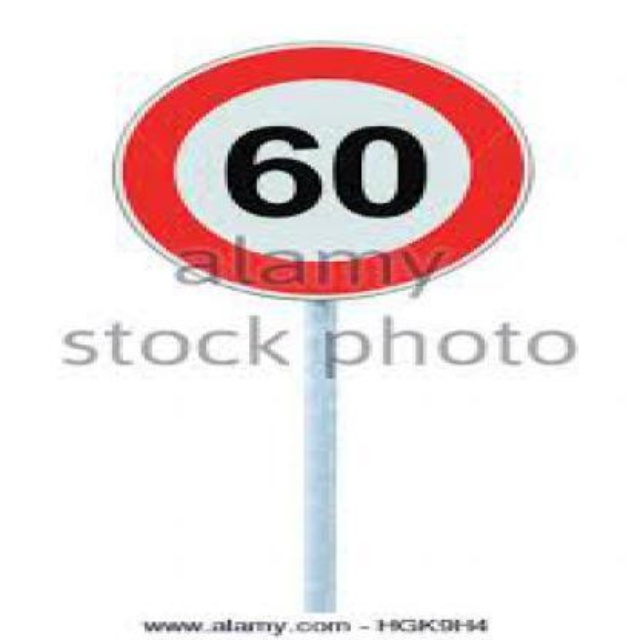Tốc độ tối đa cho phép 80km/h: (118, 42, 529, 297)
